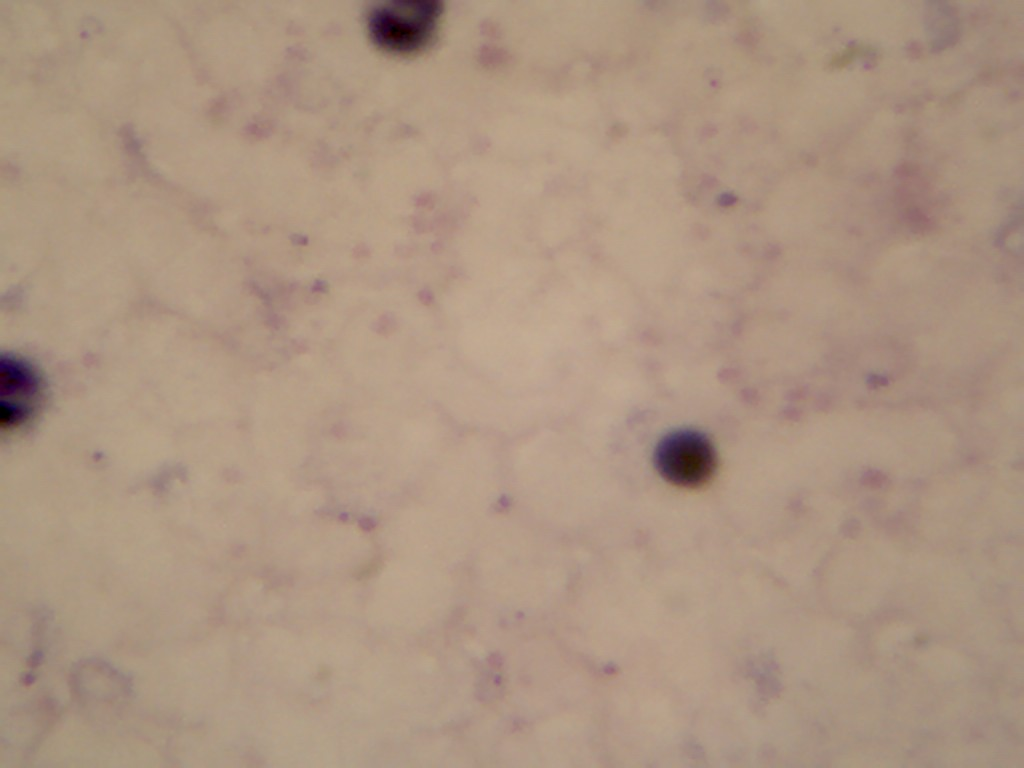person: (2, 646, 53, 696), (276, 217, 327, 267), (68, 437, 118, 487), (66, 1, 116, 51), (293, 264, 343, 314), (328, 494, 378, 544), (467, 662, 517, 712), (490, 593, 540, 643), (684, 52, 734, 102), (862, 359, 912, 409)
